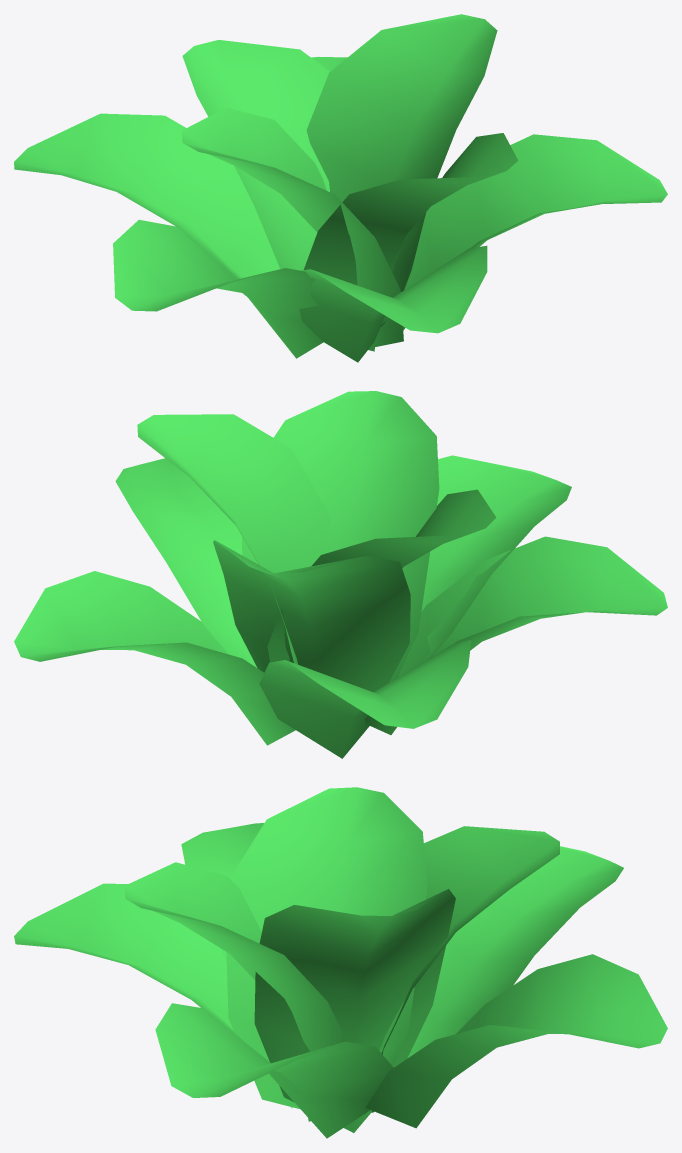
Rendered from bush2.fbx.
3 renders of one model, top to bottom at view 1: azimuth 30°, elevation 25°; view 2: azimuth 150°, elevation 25°; view 3: azimuth 270°, elevation 25°, orthographic. The views are drawn at different scales.
Parts seen in each view (by area): view 1: sn_fern.002; view 2: sn_fern.002; view 3: sn_fern.002.
Part boxes in pixels (x1=…): sn_fern.002: x1=14, y1=14, x2=667, y2=362; sn_fern.002: x1=14, y1=391, x2=667, y2=758; sn_fern.002: x1=14, y1=787, x2=667, y2=1138.
Bounding box in the file's own units: 165 × 79.64 × 167.
